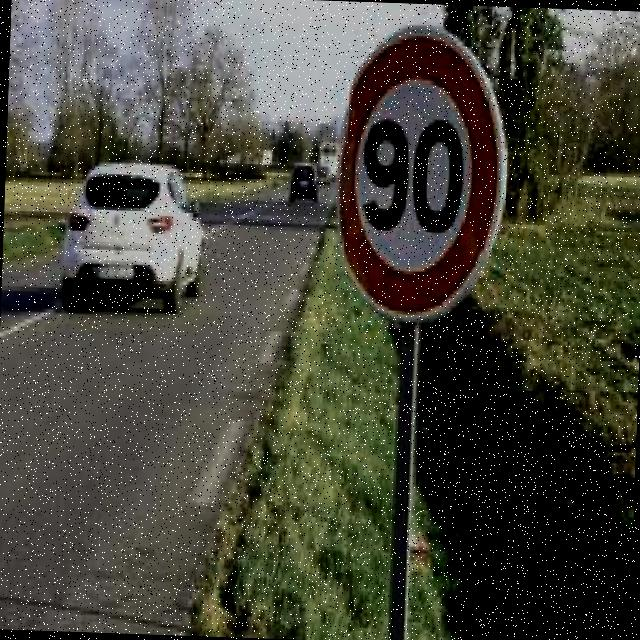Ograniczenie predkosci do 90: (340, 26, 503, 320)
